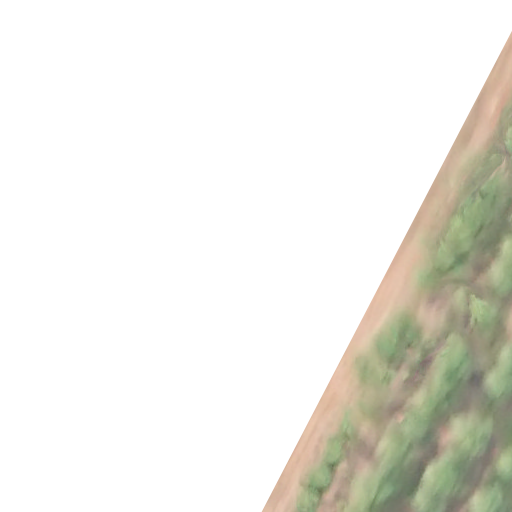eucalipto: (432, 336, 472, 389), (420, 459, 465, 499), (454, 416, 494, 460), (354, 471, 396, 508), (466, 292, 500, 333), (445, 218, 479, 257), (460, 190, 495, 227), (470, 482, 512, 512), (415, 388, 453, 417), (377, 336, 409, 368), (404, 412, 437, 443), (490, 257, 512, 298), (301, 464, 334, 490), (482, 371, 512, 399), (295, 488, 322, 512), (494, 445, 512, 481), (323, 439, 345, 468), (498, 341, 512, 373)
